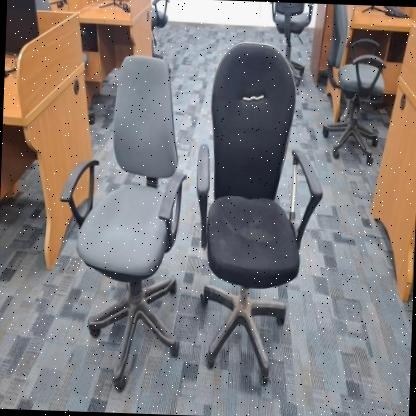chair: (50, 47, 196, 398), (190, 33, 332, 392)
